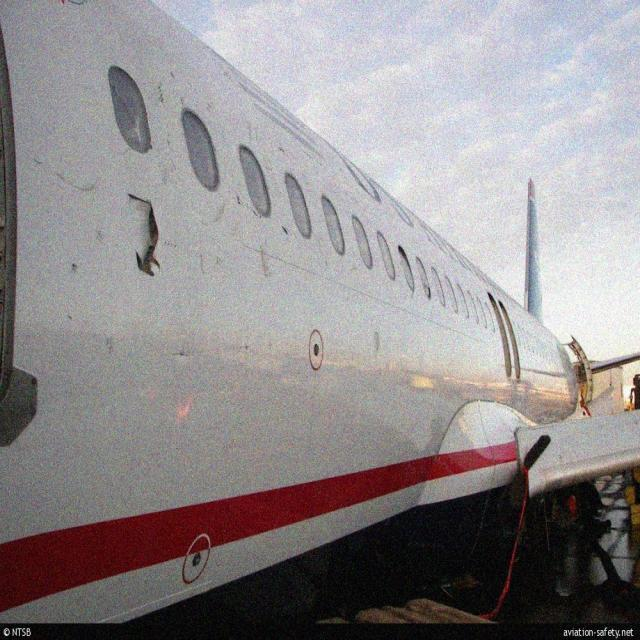crack: (121, 186, 169, 287)
